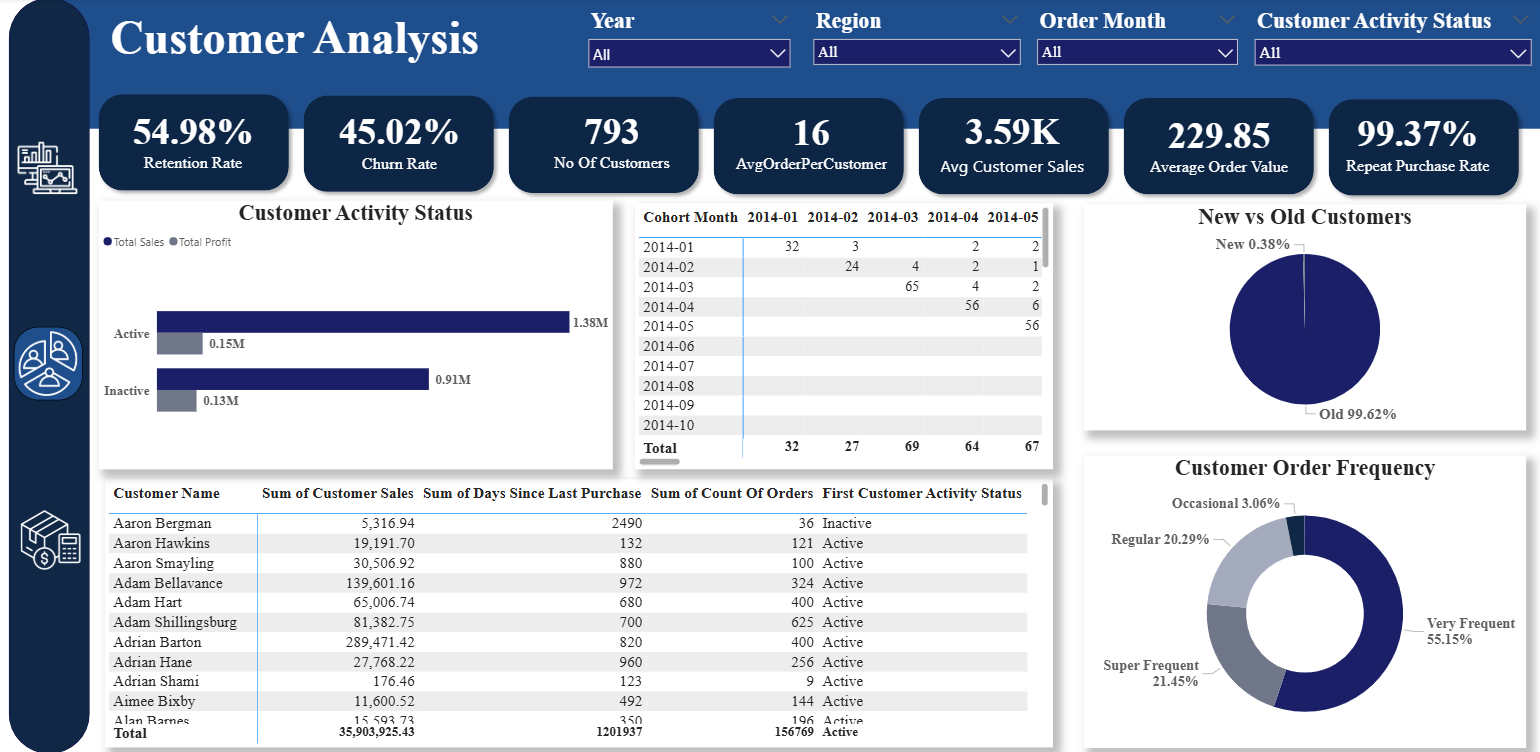

This screenshot's page, from the dashboard's own definition file:
{"tool":"powerbi","page":{"name":"Customer Analysis","canvas":[1881,920],"ordinal":1},"visuals":[{"type":"shape","box":[55.3,0,1826,159.1],"z":0},{"type":"shape","box":[17.3,0,98.6,919.9],"z":1000},{"type":"textbox","box":[134.9,12.1,499.7,88.2],"z":2000},{"type":"shape","box":[117.1,108,249.5,135.4],"z":3000},{"type":"image","box":[22.8,400.1,83.7,89.7],"z":4000},{"type":"image","box":[28.9,603.9,77.6,111],"z":5000},{"type":"image","box":[10.6,170.4,106.5,73],"z":6000},{"type":"shape","box":[1115,112.6,249.5,135.4],"z":7000},{"type":"shape","box":[1364.5,112.6,249.5,135.4],"z":8000},{"type":"shape","box":[366.6,109.5,249.5,135.4],"z":9000},{"type":"shape","box":[616.1,111,249.5,135.4],"z":10000},{"type":"shape","box":[865.5,112.6,249.5,135.4],"z":11000},{"type":"shape","box":[1614,114.1,249.5,135.4],"z":12000},{"type":"pivotTable","fields":{"Rows":["Sample - Superstore.Customer Name"],"Values":["Sample - Superstore.Customer Sales","Sample - Superstore.Days Since Last Purchase","Sample - Superstore.Count Of Orders","Sample - Superstore.Customer Activity Status"]},"box":[134.3,585.6,1153.4,326.8],"z":13000},{"type":"donutChart","title":"Customer Order Frequency","fields":{"Category":["Sample - Superstore.Order Frequency Segment"],"Y":["Key Measure.Total Orders"]},"box":[1324.9,556.5,538.7,355.9],"z":14000},{"type":"pieChart","title":"New vs Old Customers","fields":{"Category":["Sample - Superstore.New Customers"],"Y":["Key Measure.No Of Customers"]},"box":[1324.9,250.7,538.7,275],"z":15000},{"type":"clusteredBarChart","title":"Customer Activity Status","fields":{"Category":["Sample - Superstore.Customer Activity Status"],"Y":["Key Measure.Total Sales","Key Measure.Total Profit"]},"box":[125.8,246,625.3,327.4],"z":16000},{"type":"cardVisual","fields":{"Data":["Key Measure.Retention Rate"]},"box":[120.2,122.1,242.3,107.3],"z":17000},{"type":"cardVisual","fields":{"Data":["Key Measure.Churn Rate"]},"box":[379.2,107.3,227.5,135],"z":18000},{"type":"cardVisual","fields":{"Data":["Key Measure.No Of Customers"]},"box":[634.5,122.1,233.1,107.3],"z":19000},{"type":"cardVisual","fields":{"Data":["Key Measure.AvgOrderPerCustomer"]},"box":[871.3,107.3,244.2,136.9],"z":20000},{"type":"cardVisual","fields":{"Data":["Key Measure.Avg Customer Sales"]},"box":[1121.1,103.6,234.9,149.8],"z":21000},{"type":"cardVisual","fields":{"Data":["Key Measure.Average Order Value"]},"box":[1374.5,120.2,229.4,120.2],"z":22000},{"type":"cardVisual","fields":{"Data":["Key Measure.Repeat Purchase Rate"]},"box":[1613.1,114.7,238.6,127.6],"z":23000},{"type":"slicer","fields":{"Values":["Calendar.Date.Variation.Date Hierarchy.Year"]},"box":[711.2,7.8,266.3,92.4],"z":24000},{"type":"slicer","fields":{"Values":["Sample - Superstore.Region"]},"box":[985.3,7.8,272.6,89.3],"z":25000},{"type":"slicer","fields":{"Values":["Sample - Superstore.Order Month"]},"box":[1257.9,7.8,264.7,89.3],"z":26000},{"type":"pivotTable","fields":{"Rows":["Sample - Superstore.Cohort Month"],"Columns":["Sample - Superstore.Order Month"],"Values":["Key Measure.No Of Customers"]},"box":[778.5,249.1,509.1,324.3],"z":27000},{"type":"slicer","fields":{"Values":["Sample - Superstore.Customer Activity Status"]},"box":[1522.6,7.8,357.2,94],"z":28000}]}

Visuals, with their boxes in screenshot pixels (x1, y1, x2, y2), scaled from the page's 1881x920 canvas onto the 1540x752 screenshot:
shape: locate(45, 0, 1539, 130)
shape: locate(14, 0, 95, 751)
textbox: locate(110, 10, 520, 82)
shape: locate(96, 88, 300, 199)
image: locate(19, 327, 87, 400)
image: locate(24, 494, 87, 584)
image: locate(9, 139, 96, 199)
shape: locate(913, 92, 1117, 203)
shape: locate(1117, 92, 1321, 203)
shape: locate(300, 90, 504, 200)
shape: locate(504, 91, 709, 201)
shape: locate(709, 92, 913, 203)
shape: locate(1321, 93, 1526, 204)
pivotTable - Sample - Superstore.Customer Name x Sample - Superstore.Customer Sales: locate(110, 479, 1054, 746)
"Customer Order Frequency" donutChart: locate(1085, 455, 1526, 746)
"New vs Old Customers" pieChart: locate(1085, 205, 1526, 430)
"Customer Activity Status" clusteredBarChart: locate(103, 201, 615, 469)
cardVisual - Key Measure.Retention Rate: locate(98, 100, 297, 188)
cardVisual - Key Measure.Churn Rate: locate(310, 88, 497, 198)
cardVisual - Key Measure.No Of Customers: locate(519, 100, 710, 188)
cardVisual - Key Measure.AvgOrderPerCustomer: locate(713, 88, 913, 200)
cardVisual - Key Measure.Avg Customer Sales: locate(918, 85, 1110, 207)
cardVisual - Key Measure.Average Order Value: locate(1125, 98, 1313, 197)
cardVisual - Key Measure.Repeat Purchase Rate: locate(1321, 94, 1516, 198)
slicer - Calendar.Date.Variation.Date Hierarchy.Year: locate(582, 6, 800, 82)
slicer - Sample - Superstore.Region: locate(807, 6, 1030, 79)
slicer - Sample - Superstore.Order Month: locate(1030, 6, 1247, 79)
pivotTable - Sample - Superstore.Cohort Month x Sample - Superstore.Order Month: locate(637, 204, 1054, 469)
slicer - Sample - Superstore.Customer Activity Status: locate(1247, 6, 1539, 83)
